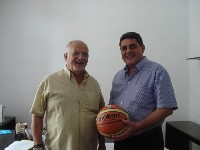basketball: (96, 104, 130, 137)
